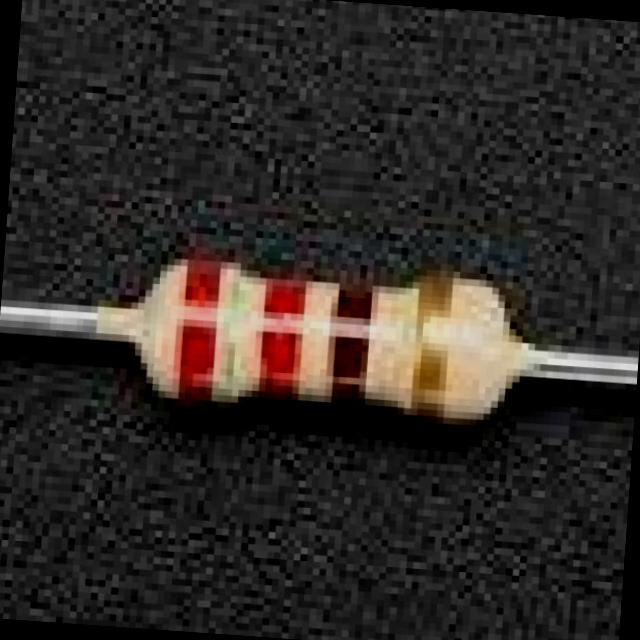Resistor: (139, 257, 521, 421)
brown: (331, 328, 368, 399)
gold: (412, 273, 453, 414)
red: (176, 258, 221, 402), (260, 279, 306, 396), (184, 258, 221, 306)
